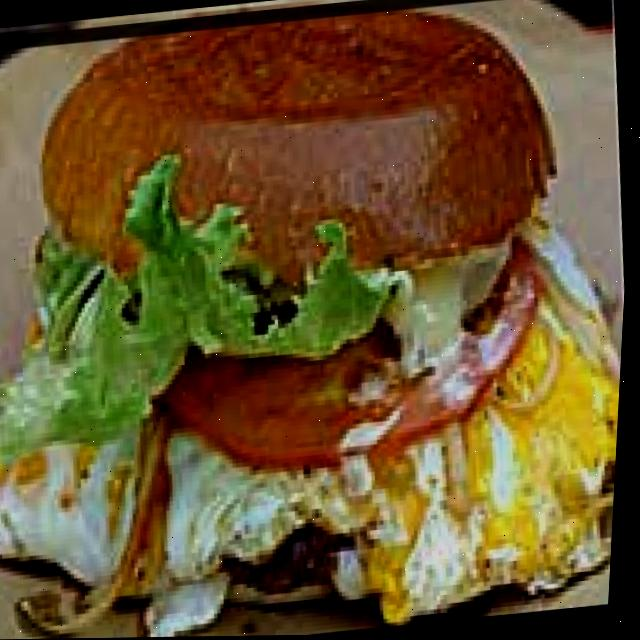汉堡快餐: (0, 11, 620, 636)
